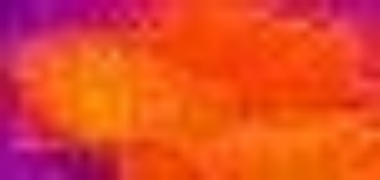Shadow: (1, 111, 123, 178), (1, 1, 163, 35)
